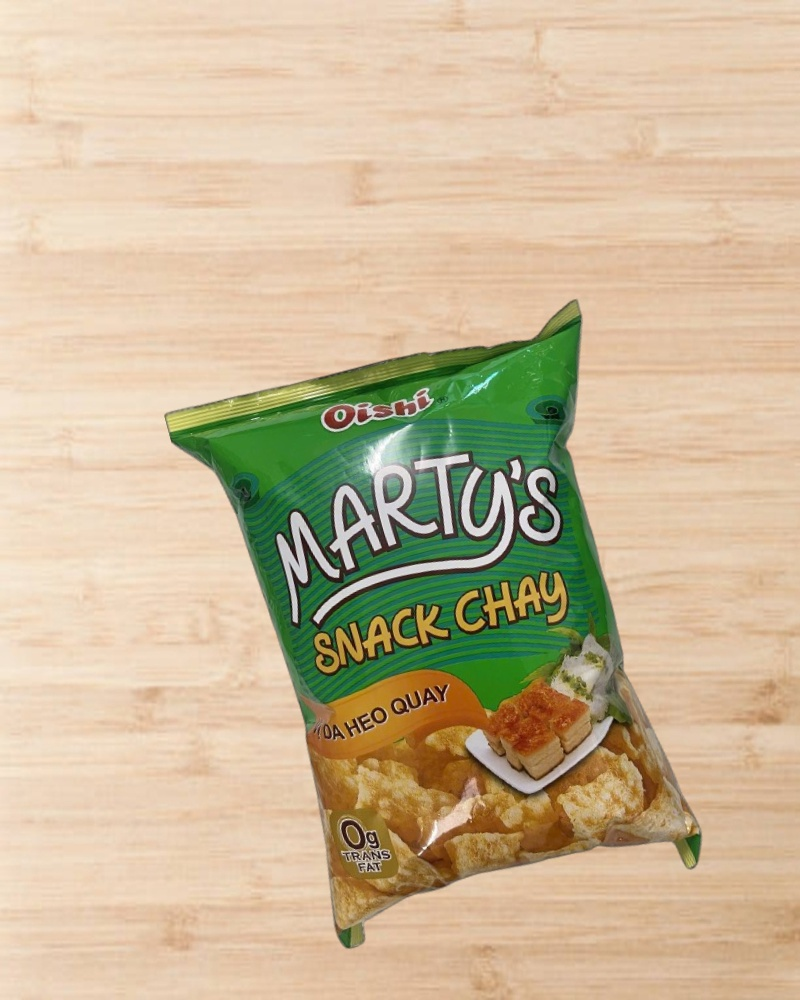Snack chay: (164, 299, 728, 970)
